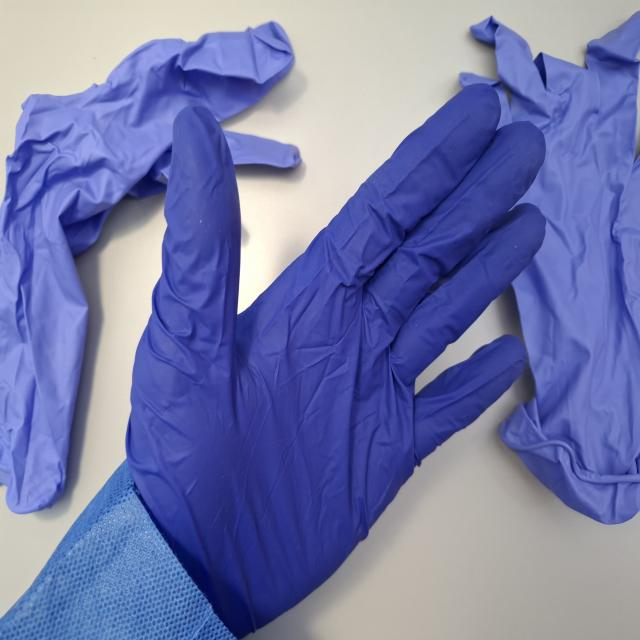glove_on: (117, 78, 548, 640)
